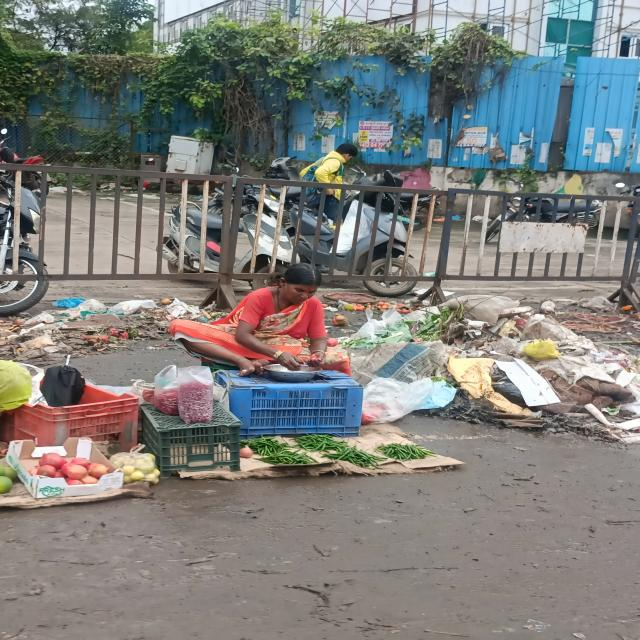garbage: (361, 293, 640, 434), (4, 295, 170, 352)
